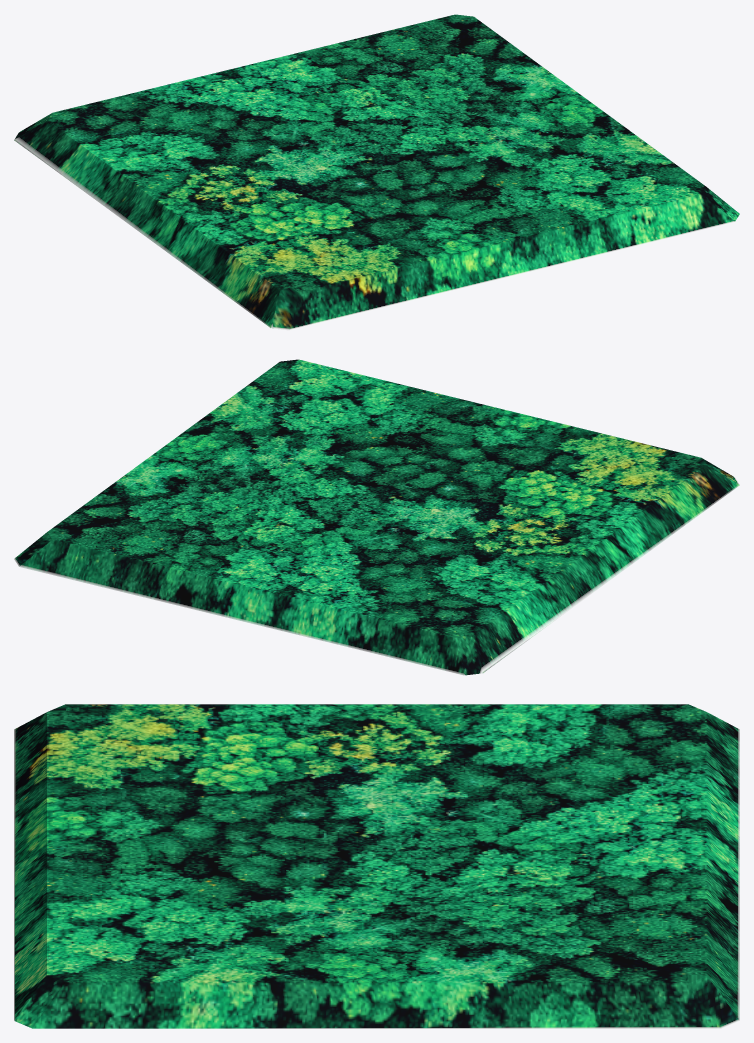
File: ForestTile.glb
The picture shows the model from 3 angles, top to bottom: view 1: azimuth 30°, elevation 25°; view 2: azimuth 150°, elevation 25°; view 3: azimuth 270°, elevation 25°; orthographic projection. The views are drawn at different scales.
Parts seen in each view (by area): view 1: Cube; view 2: Cube; view 3: Cube.
Boxes of the visible parts, x1,y1,x2,y2 form: Cube: (14,14,739,330); Cube: (14,359,739,675); Cube: (14,704,739,1028).
Size of the model in its own units: 2 by 0.1 by 2.
1 material, 1 textured.
